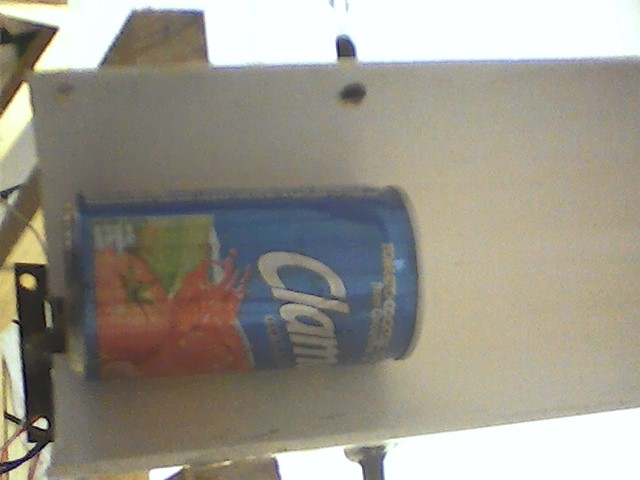lata: (54, 177, 432, 386)
